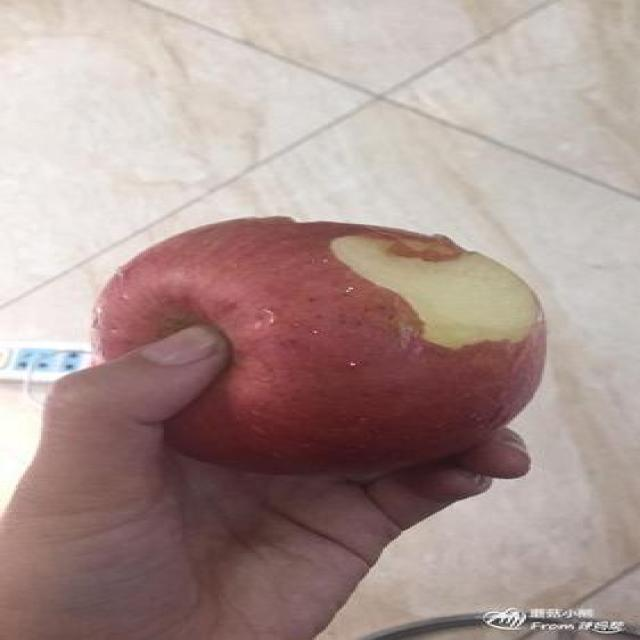Rotten: (82, 204, 559, 492)
